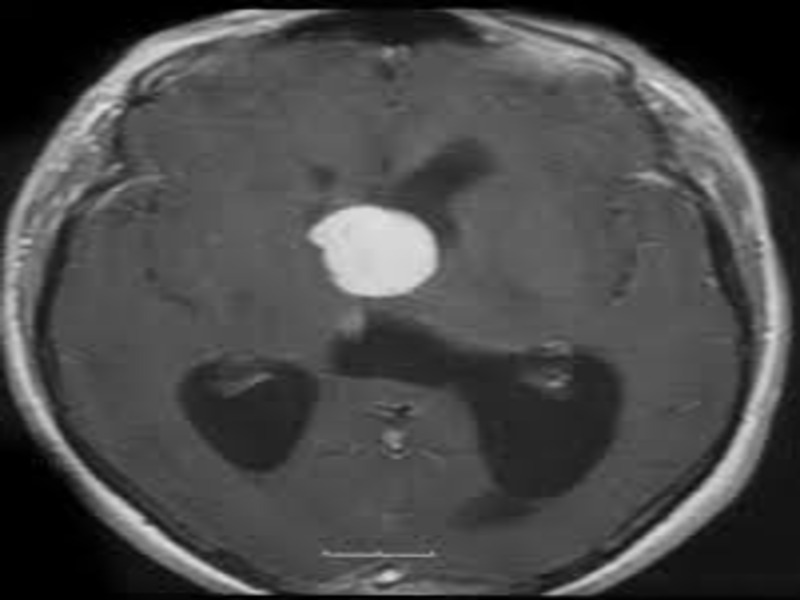tumor: (301, 195, 447, 314)
